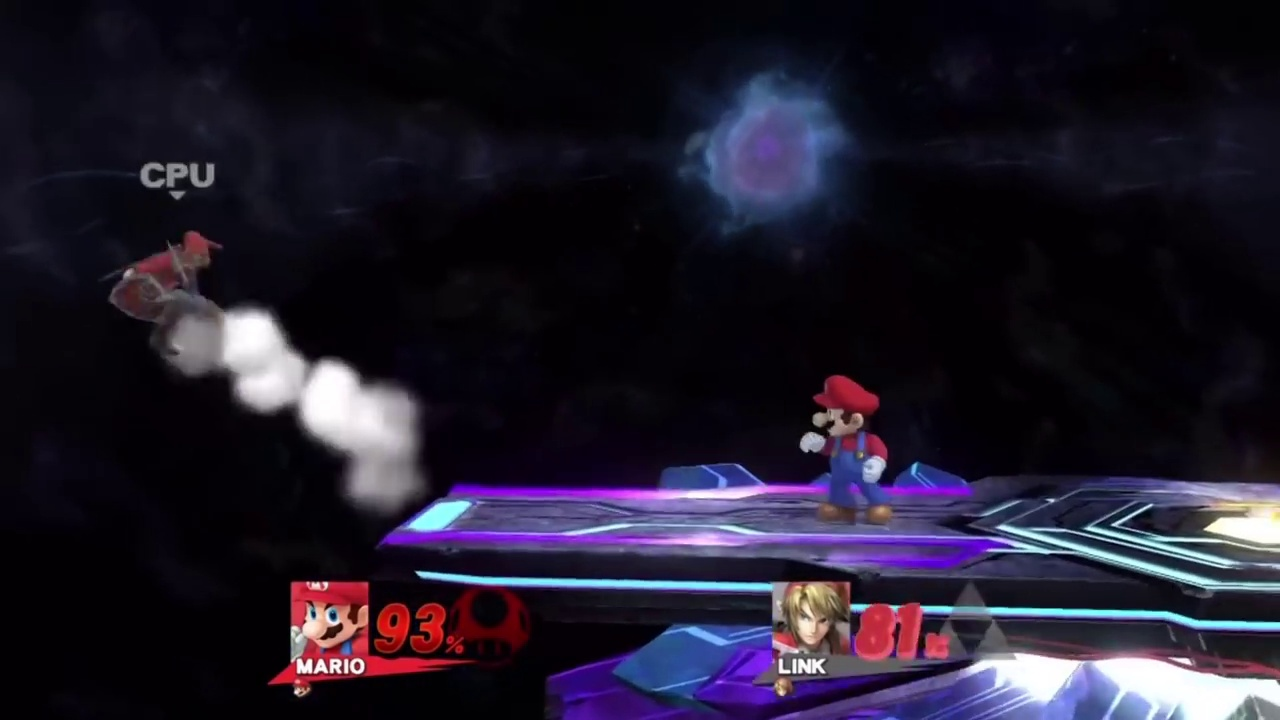Mario: (801, 374, 892, 526)
